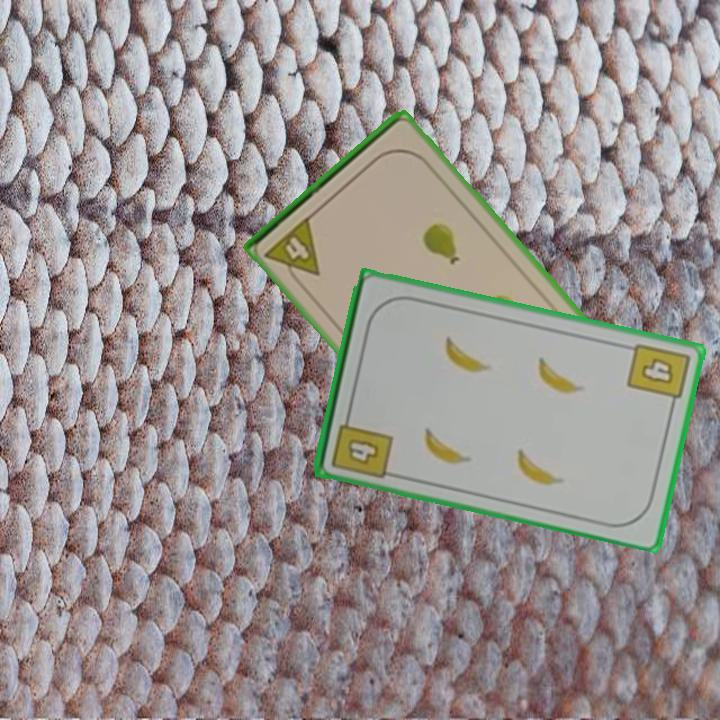4b: (327, 407, 396, 482), (623, 339, 693, 412)
4p: (261, 212, 326, 291)
